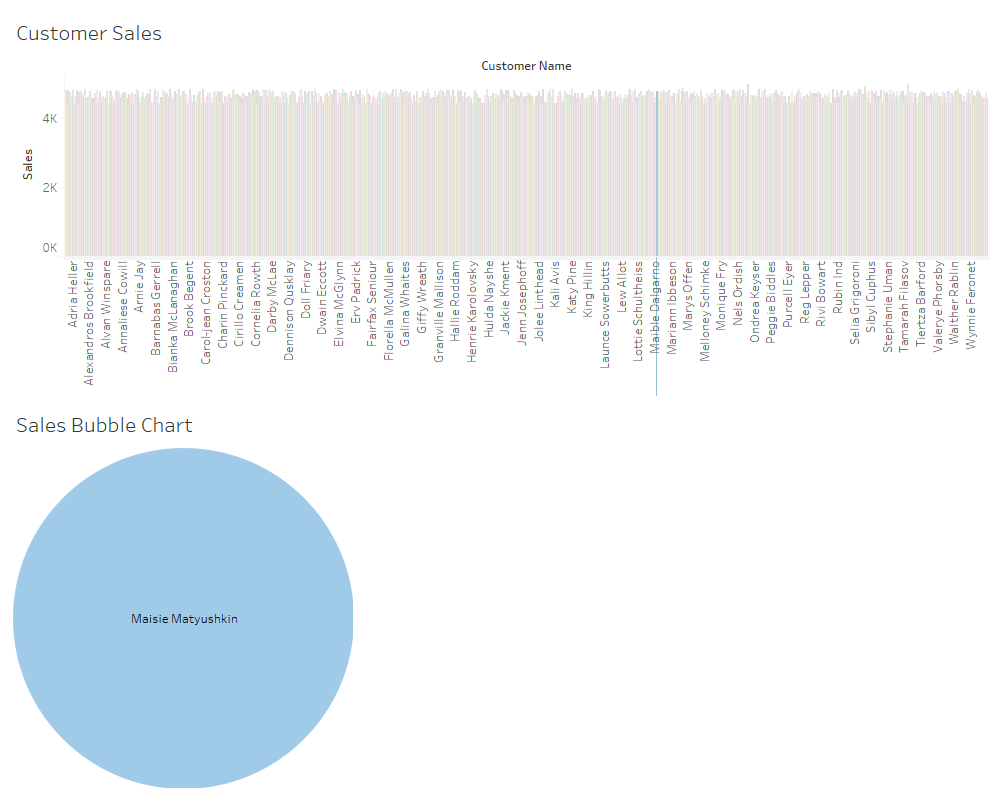

The page's visual inventory and layout, read from the dashboard file:
{"tool":"tableau","page":{"name":"Dashboard 1","canvas":[1000,800],"ordinal":0},"visuals":[{"type":"worksheet","title":"Customer Sales","mark":"Automatic","rows":["Sales"],"cols":["Customer Name"],"box":[8,8,984,392]},{"type":"worksheet","title":"Sales Bubble Chart","mark":"Circle","box":[8,400,984,392]}]}

Visuals, with their boxes in screenshot pixels (x1, y1, x2, y2), scaled from the page's 1000x800 canvas onto the 1000x800 screenshot:
"Customer Sales" worksheet: <region>8, 8, 992, 400</region>
"Sales Bubble Chart" worksheet (Circle marks): <region>8, 400, 992, 792</region>
